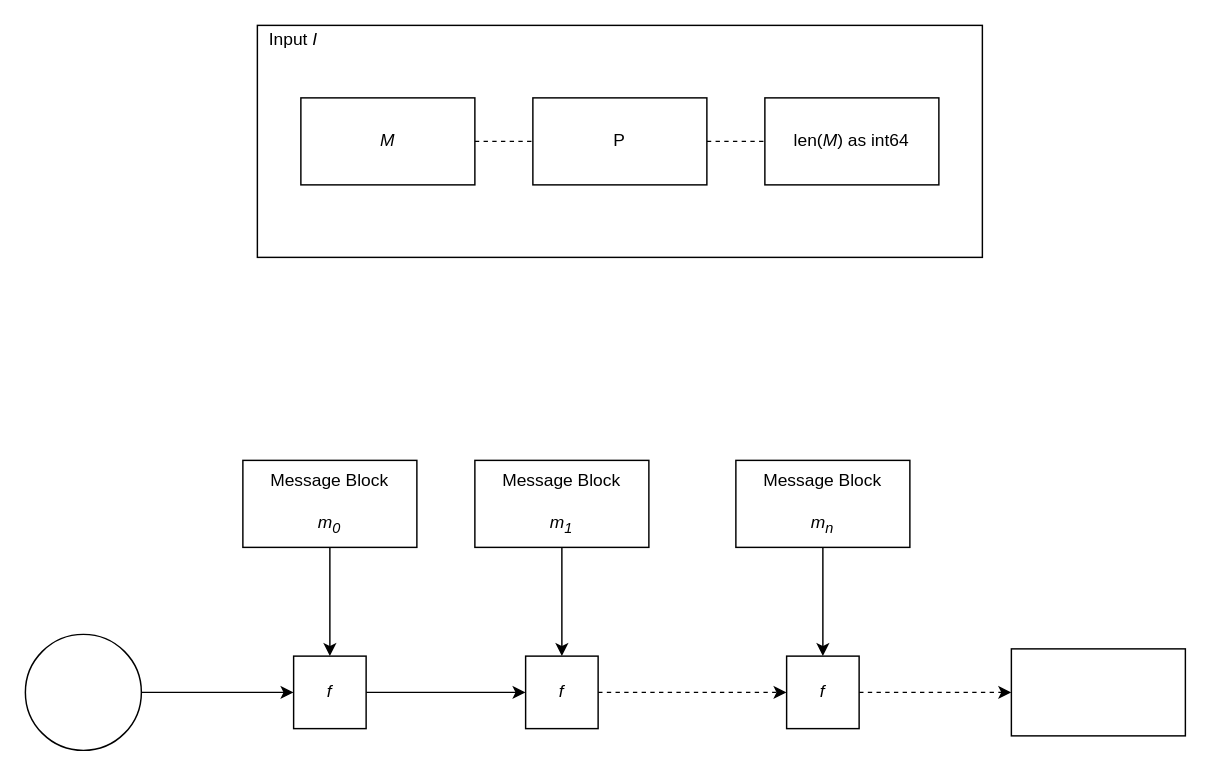
Some shapes in this 1211 by 776 pixel diagram are drawn without their labels. The shapes that lost their labels are listed below. From the top down, each one's centre as x and y in pixels, then its label:
the point at 82,691: IV
the point at 1097,691: Hash output
